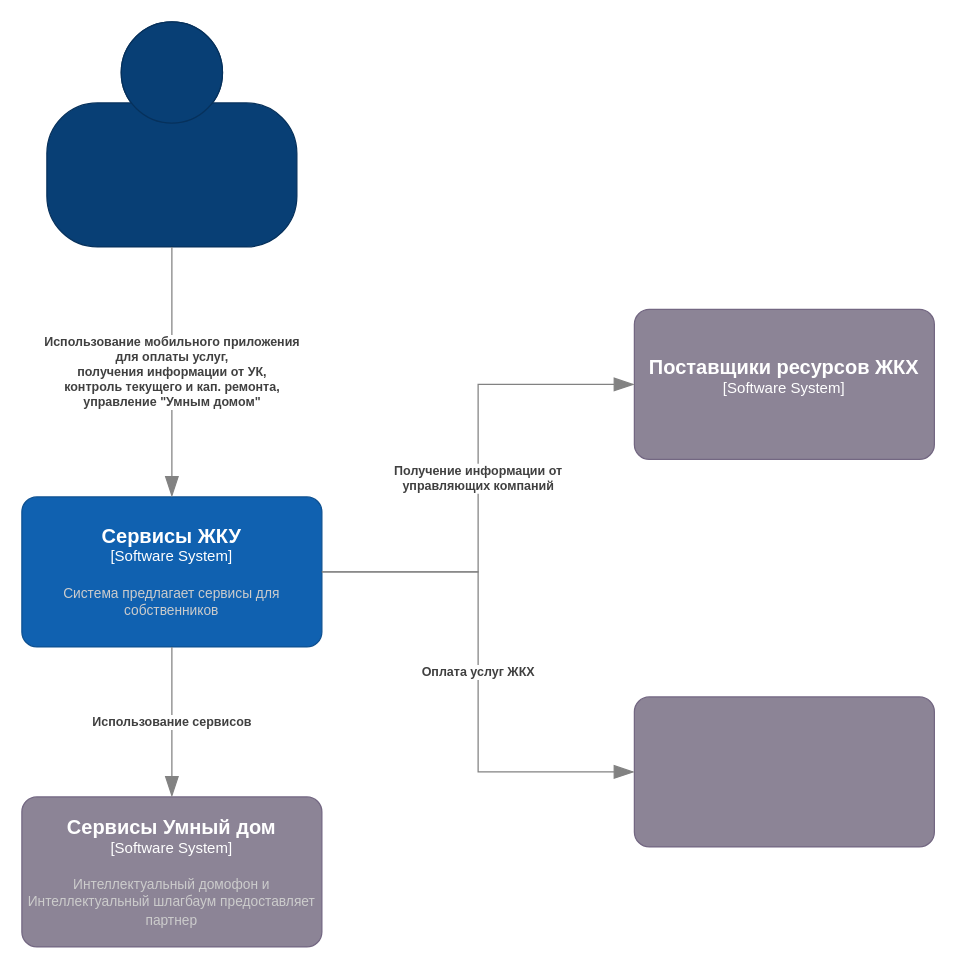
Some shapes in this 956 by 969 pixel diagram are drawn without their labels. Here are the shapes that lost their labels. From the top down, the centre of each, then its label:
(171,134): Собственник [Person] Клиент
(783,771): Платёжная система [Software System] Провайдер онлайн-платежей
